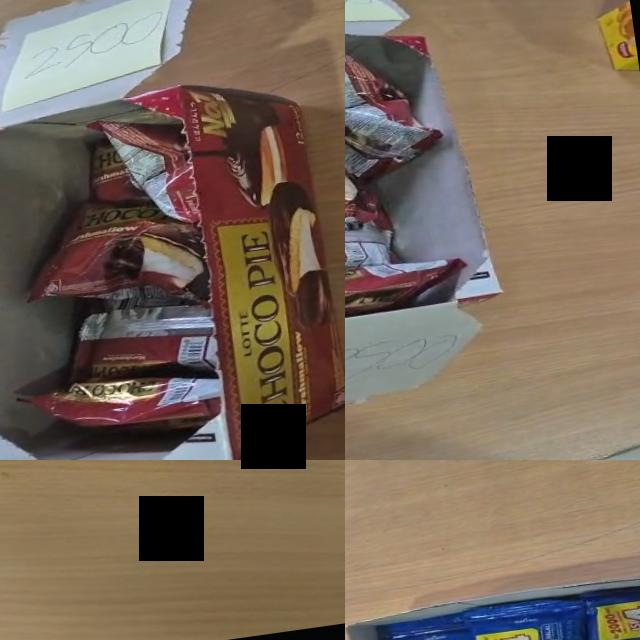Chocopie: (28, 203, 203, 300), (345, 36, 448, 190), (75, 305, 216, 380), (345, 245, 470, 324), (101, 123, 198, 222), (29, 377, 218, 426), (345, 104, 388, 243), (89, 137, 146, 204), (345, 214, 396, 281)
Oreo: (345, 567, 640, 640)
